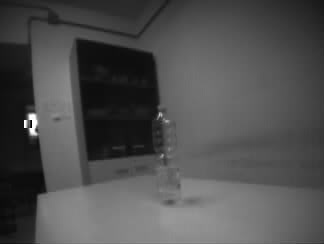Bottle: (150, 103, 181, 205)
